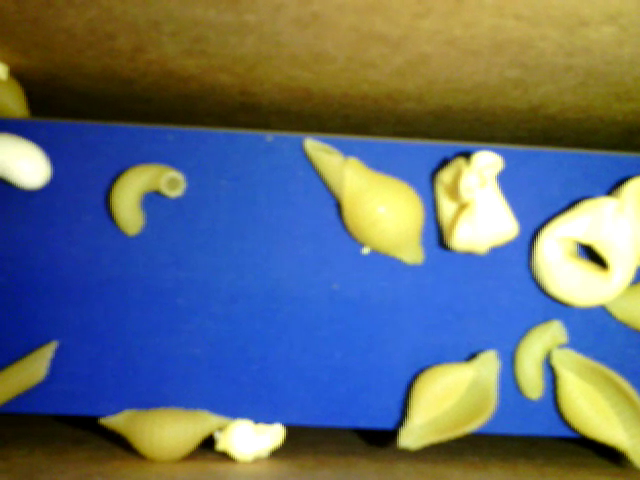elbow: (106, 162, 188, 238), (512, 320, 566, 399)
penne: (1, 340, 58, 403), (303, 135, 347, 206)
shell: (396, 348, 503, 455), (551, 346, 638, 468), (339, 157, 426, 268), (95, 408, 232, 464)
tortellini: (526, 196, 638, 306), (427, 150, 519, 256)
